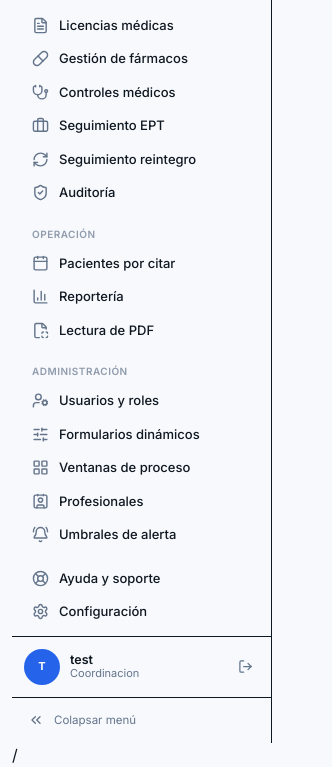
Test: Sidebar · ayuda y configuración › 'Ayuda y soporte' lleva a /ayuda (colapsado: false)
The image size is (332, 767).
(page scrolled)
Click the link "Ayuda y soporte": point(96, 578) x1=32 y1=570 x2=160 y2=587
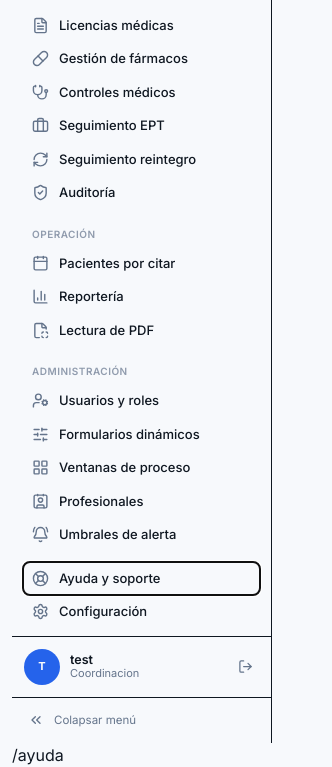
Now the text with test id "ubicacion" reads "/ayuda", box x1=12 y1=745 x2=64 y2=765
